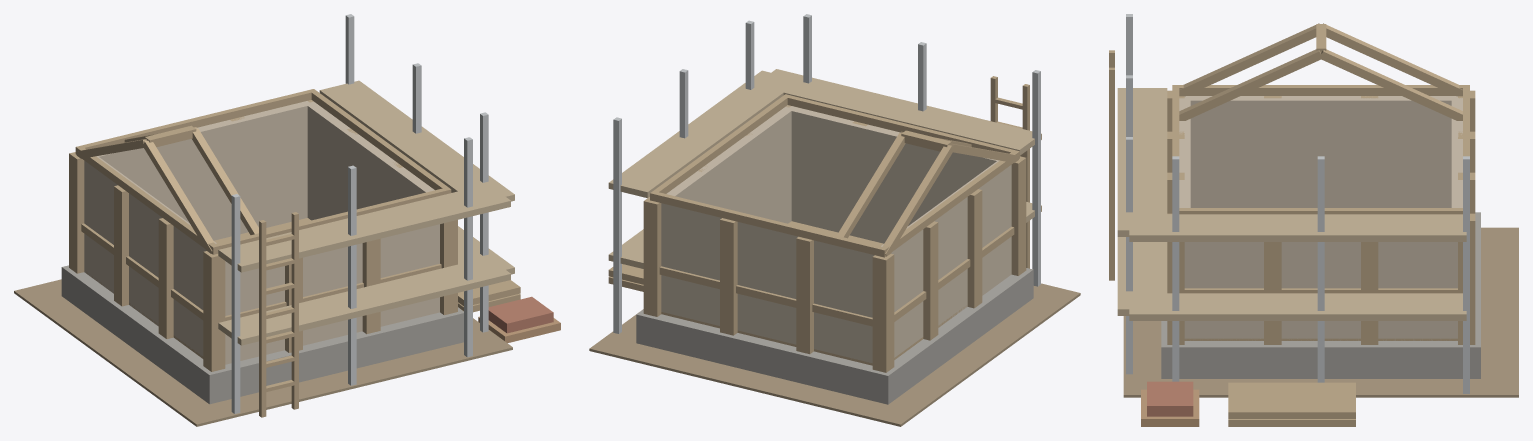
The model's file is rabbit_hutch_site_8.glb.
3 renders of one model, left to right at view 1: azimuth 30°, elevation 25°; view 2: azimuth 150°, elevation 25°; view 3: azimuth 270°, elevation 25°, orthographic. The views are drawn at different scales.
Visible parts, largest first — view 1: body; view 2: body; view 3: body.
Boxes of the visible parts, x1,y1,x2,y2 form: body: (14,14,560,426); body: (589,14,1080,426); body: (1109,14,1518,426).
Bounding box in the file's own units: 1.6 × 0.9 × 1.41.
